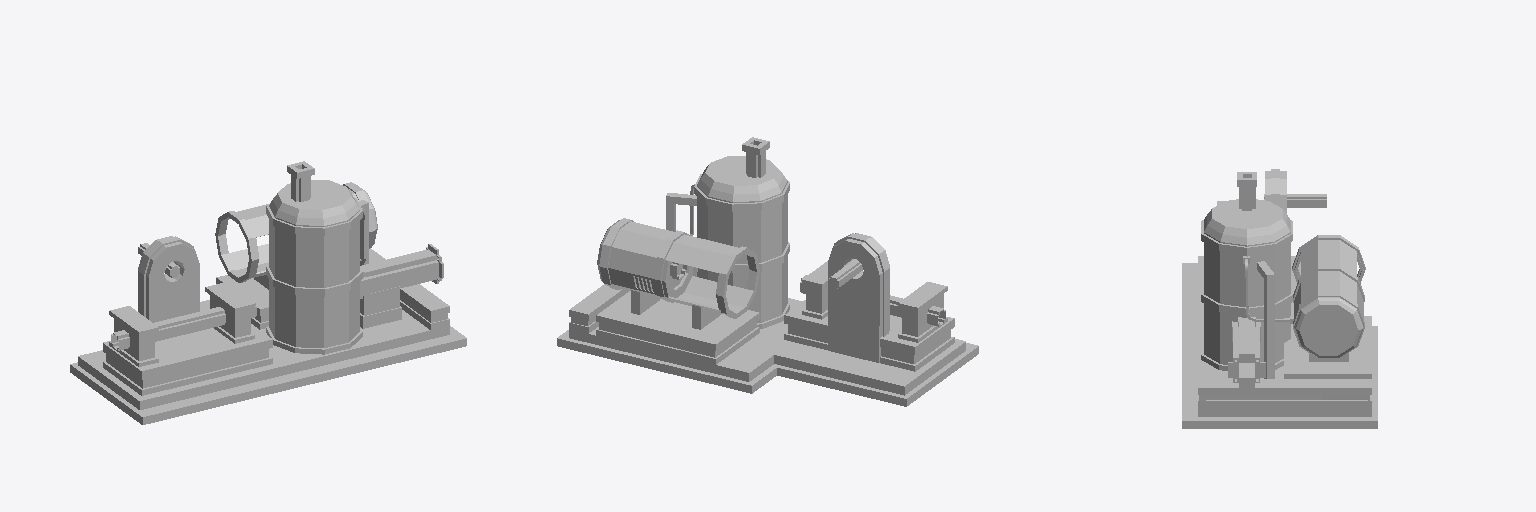
The model's file is valkyrium_engine_geo.obj.
The picture shows the model from 3 angles: view 1: azimuth 30°, elevation 25°; view 2: azimuth 150°, elevation 25°; view 3: azimuth 270°, elevation 25°; orthographic projection.
Parts seen in each view (by area): view 1: valkyrium_engine_geo; view 2: valkyrium_engine_geo; view 3: valkyrium_engine_geo.
Part boxes in pixels (bbox=[...]): valkyrium_engine_geo: bbox=[70, 161, 466, 424]; valkyrium_engine_geo: bbox=[557, 137, 978, 406]; valkyrium_engine_geo: bbox=[1182, 169, 1377, 428].
Bounding box in the file's own units: 0.9659 × 0.5348 × 0.5038.